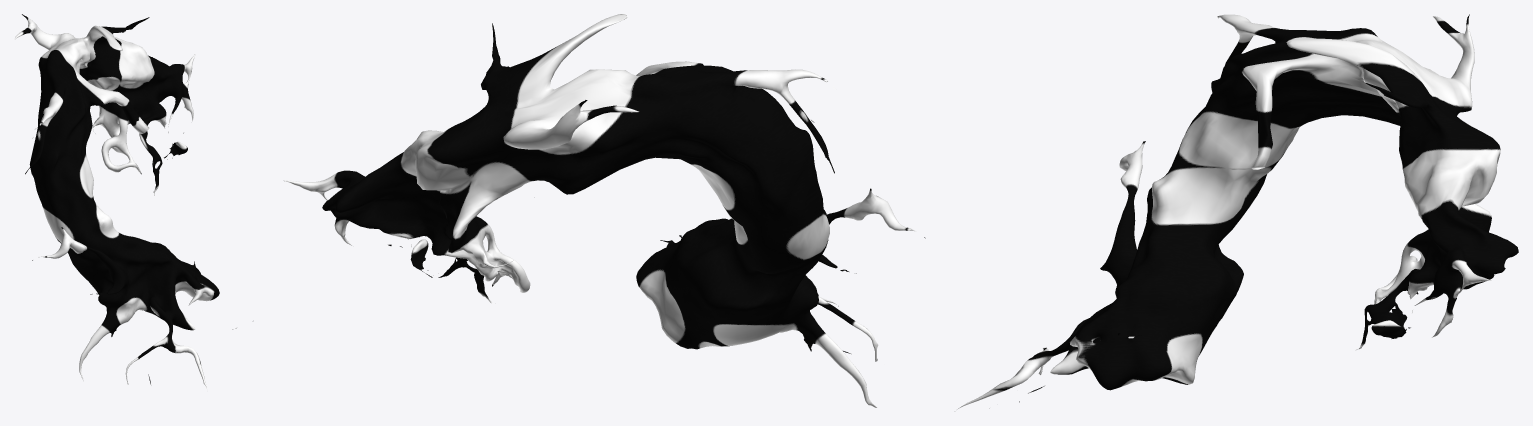
The model's file is arbre2_UV_1.fbx.
3 views of the same model, side by side, from view 1: azimuth 30°, elevation 25°; view 2: azimuth 150°, elevation 25°; view 3: azimuth 270°, elevation 25° (orthographic). The views are drawn at different scales.
Visible parts, largest first — view 1: Arbre2; view 2: Arbre2; view 3: Arbre2.
Part boxes in pixels (x1,y1,x2,y2): Arbre2: (14, 14, 236, 389); Arbre2: (283, 14, 925, 407); Arbre2: (957, 14, 1518, 409).
Size of the model in its own units: 109 by 102 by 126.
